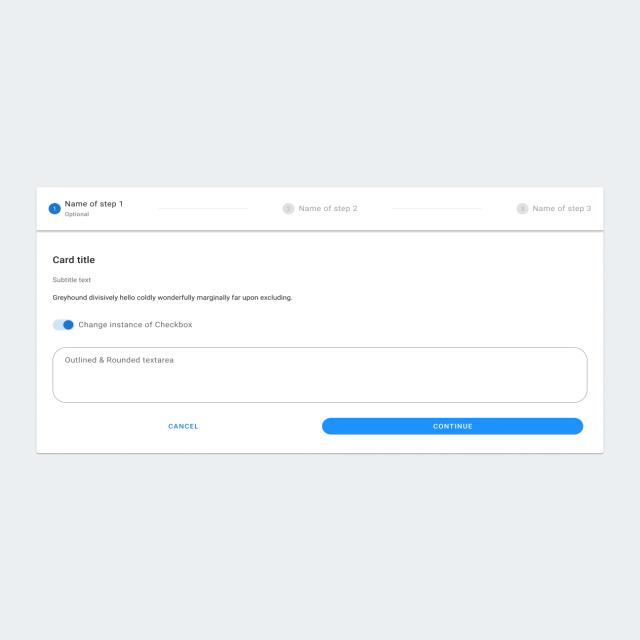QLabel: (51, 293, 293, 302), (50, 255, 96, 264), (51, 276, 91, 284), (432, 423, 473, 430), (166, 422, 198, 430)
VBtn: (321, 417, 584, 435), (51, 418, 316, 435)
VCard: (36, 232, 604, 454)
VStepper: (36, 186, 604, 231)
VSwitch: (51, 319, 192, 331)
VTextarea: (52, 346, 588, 404)
